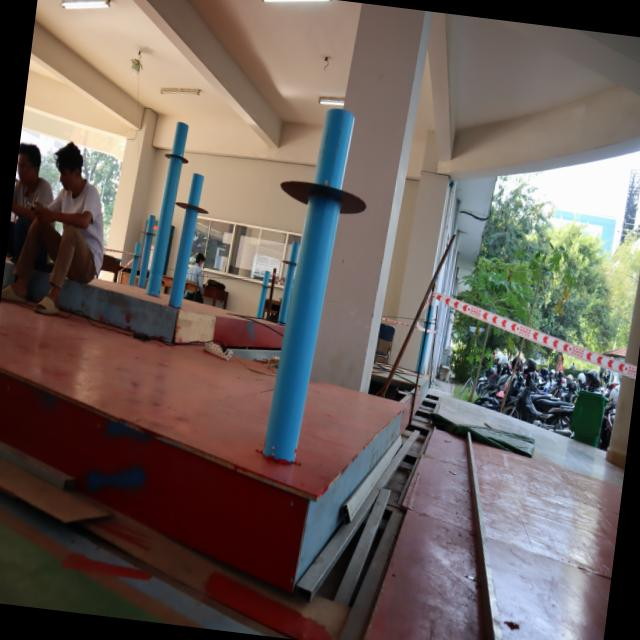pole: (260, 99, 378, 288), (172, 168, 218, 236), (157, 112, 197, 188), (136, 210, 161, 246), (127, 242, 142, 266)
